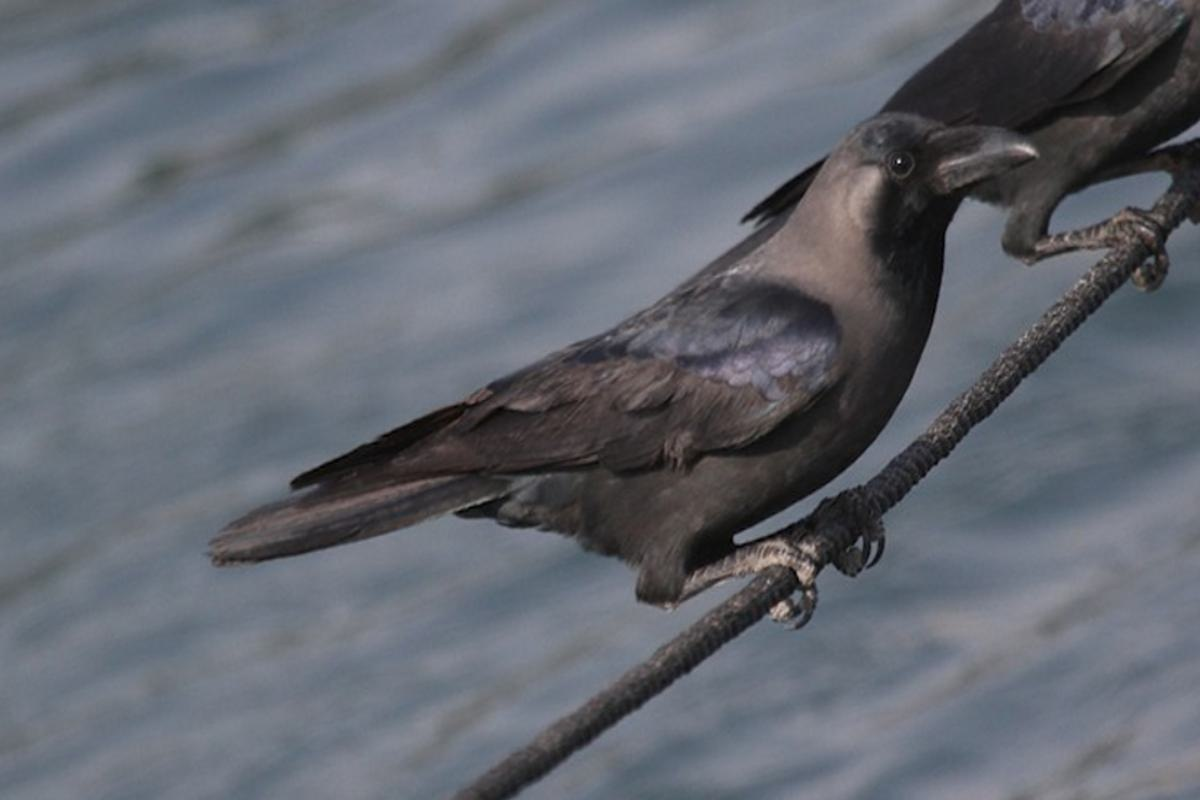crow: (218, 101, 1044, 645)
